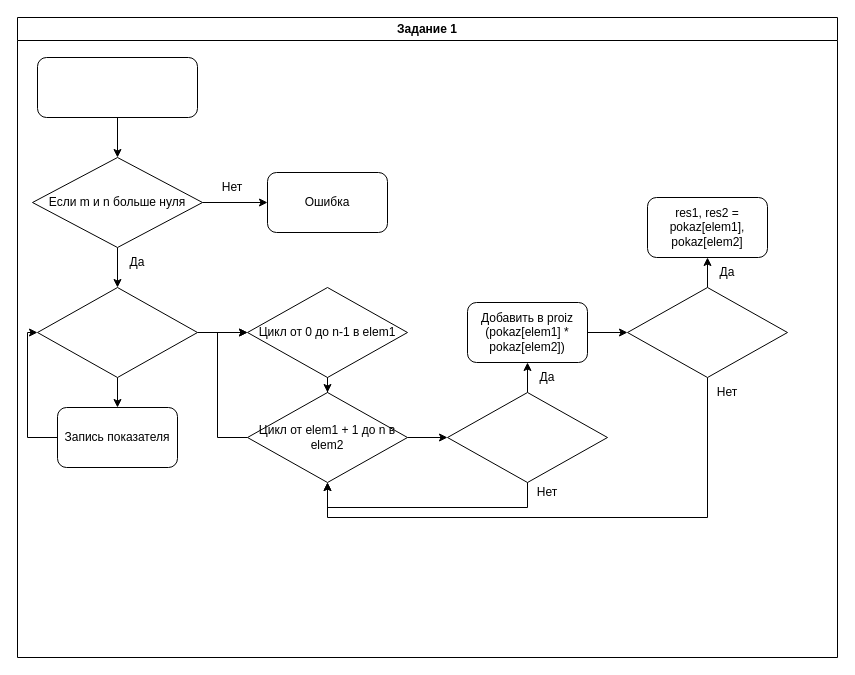
Some shapes in this 855 by 675 pixel diagram are drawn without their labels. Here are the shapes that lost their labels. From the top down, the centre of each, then its label:
pixel 117 87: Ввод m (размер комнаты), n (количество показателей)
pixel 117 332: Цикл от 0 до n
pixel 707 332: Если pokaz[elem1] * pokaz[elem2] == максимальное значение
pixel 527 437: Если pokaz[elem1] + pokaz[elem2] % m == 0
